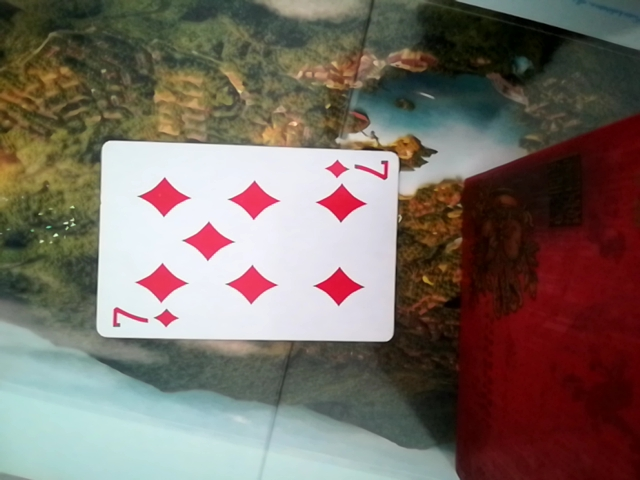fk 7: (86, 142, 400, 347)
